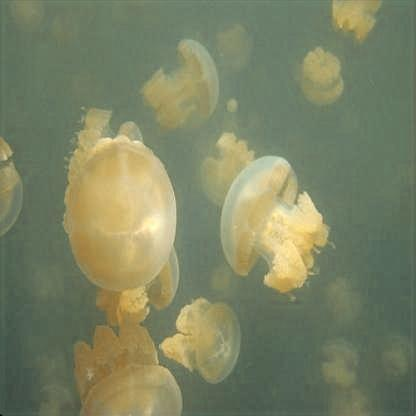Handstand: (64, 145, 175, 289), (221, 159, 335, 295), (76, 326, 182, 414), (139, 38, 215, 130), (162, 301, 240, 383), (96, 257, 180, 323), (71, 108, 144, 177), (200, 136, 256, 208), (299, 49, 345, 105), (1, 138, 23, 239), (321, 339, 361, 392), (211, 28, 257, 70), (323, 276, 363, 323), (381, 333, 416, 385), (335, 2, 381, 40), (327, 385, 371, 416), (34, 380, 72, 414), (10, 0, 48, 33), (72, 70, 104, 108)
